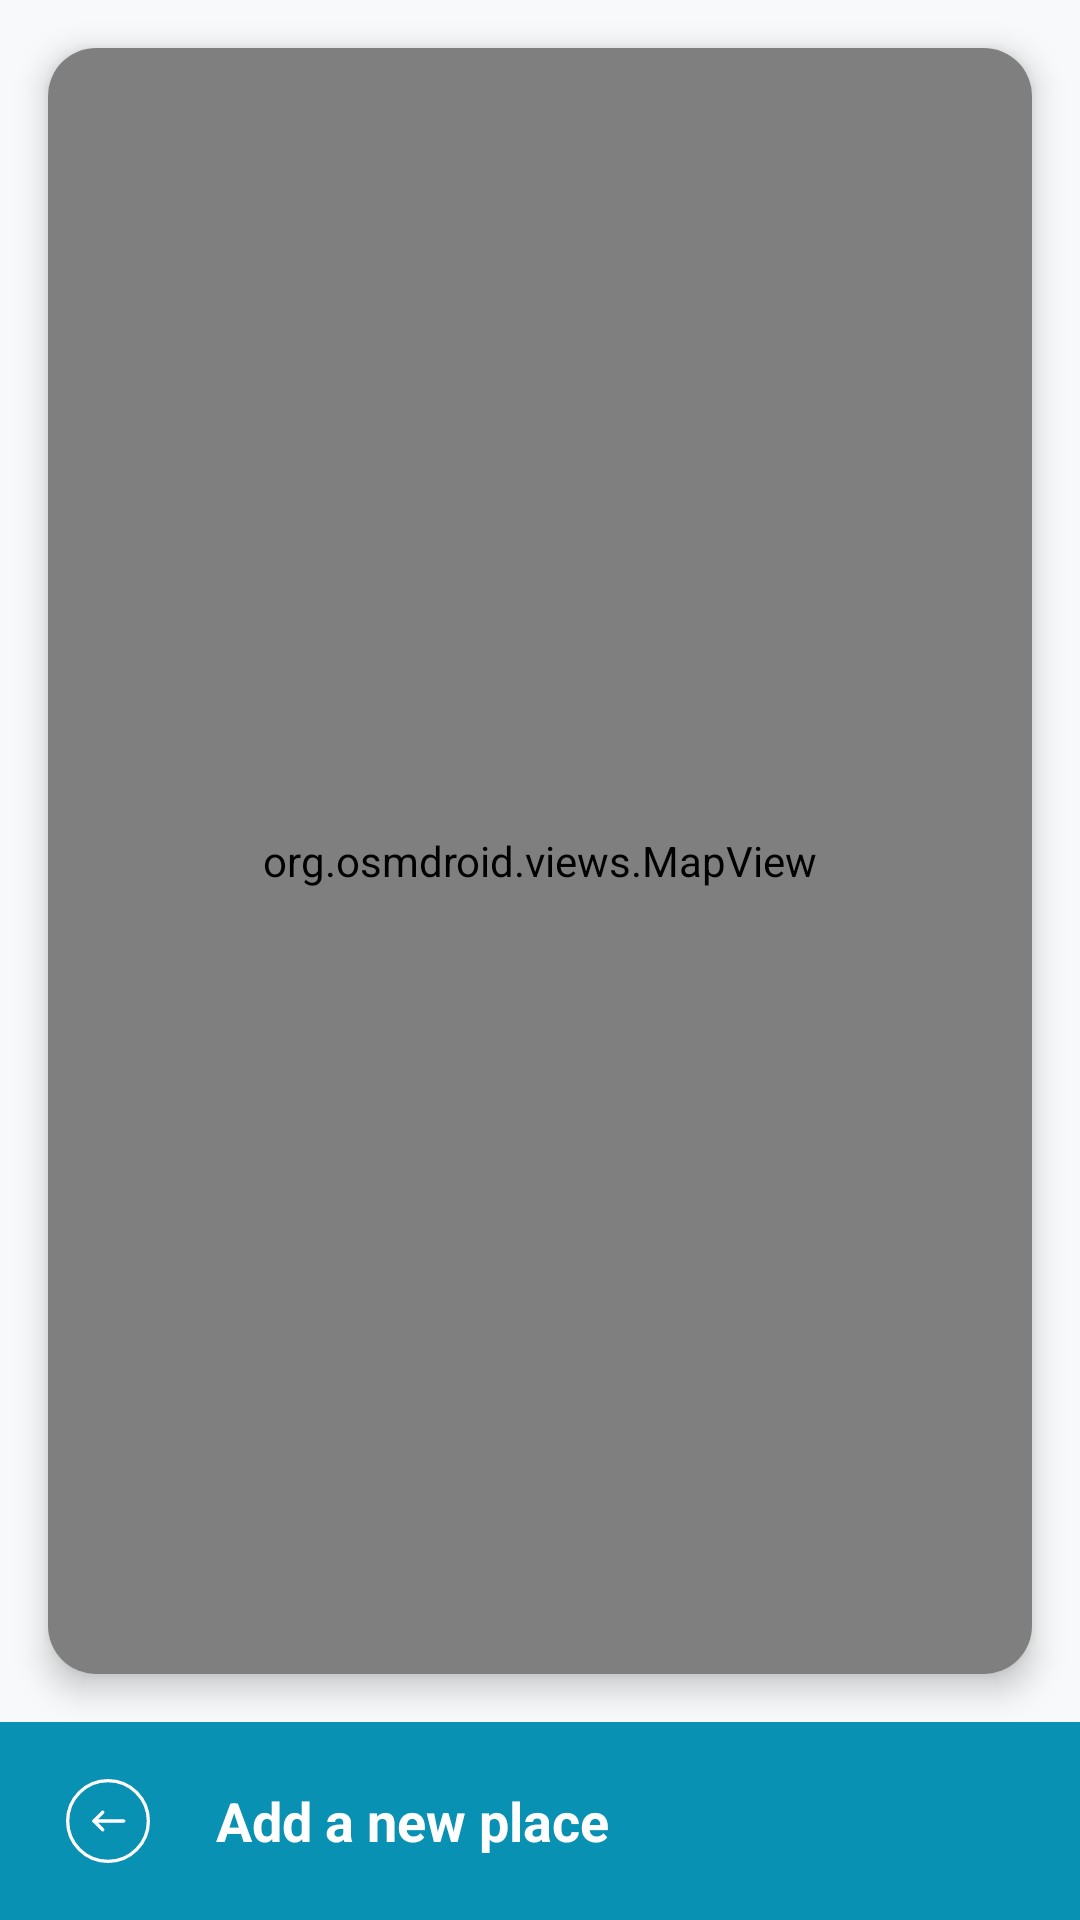

Icon bounding boxes for this 1080 × 1920 phone screenshot, format region(x1, y1, x2, y2):
back: region(66, 1779, 150, 1863)
